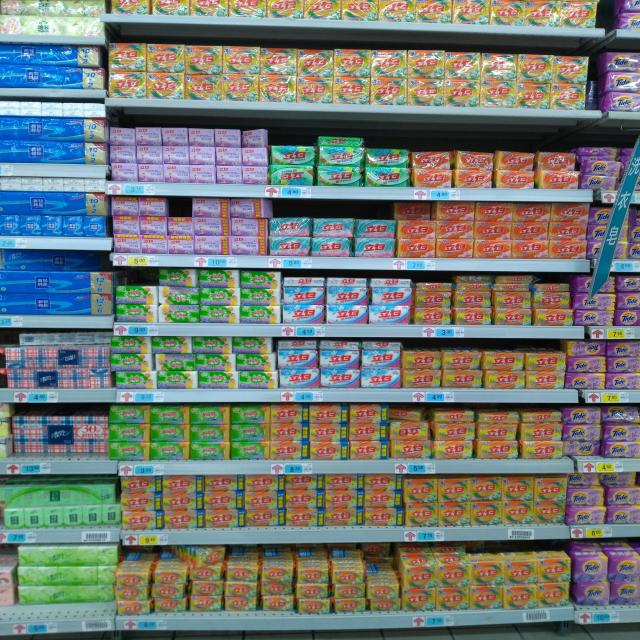unorganised: (10, 416, 109, 459), (167, 546, 227, 565), (571, 473, 635, 487), (229, 199, 270, 219), (568, 339, 605, 357), (389, 405, 426, 422), (582, 144, 619, 161), (395, 202, 432, 218), (563, 442, 601, 456)
